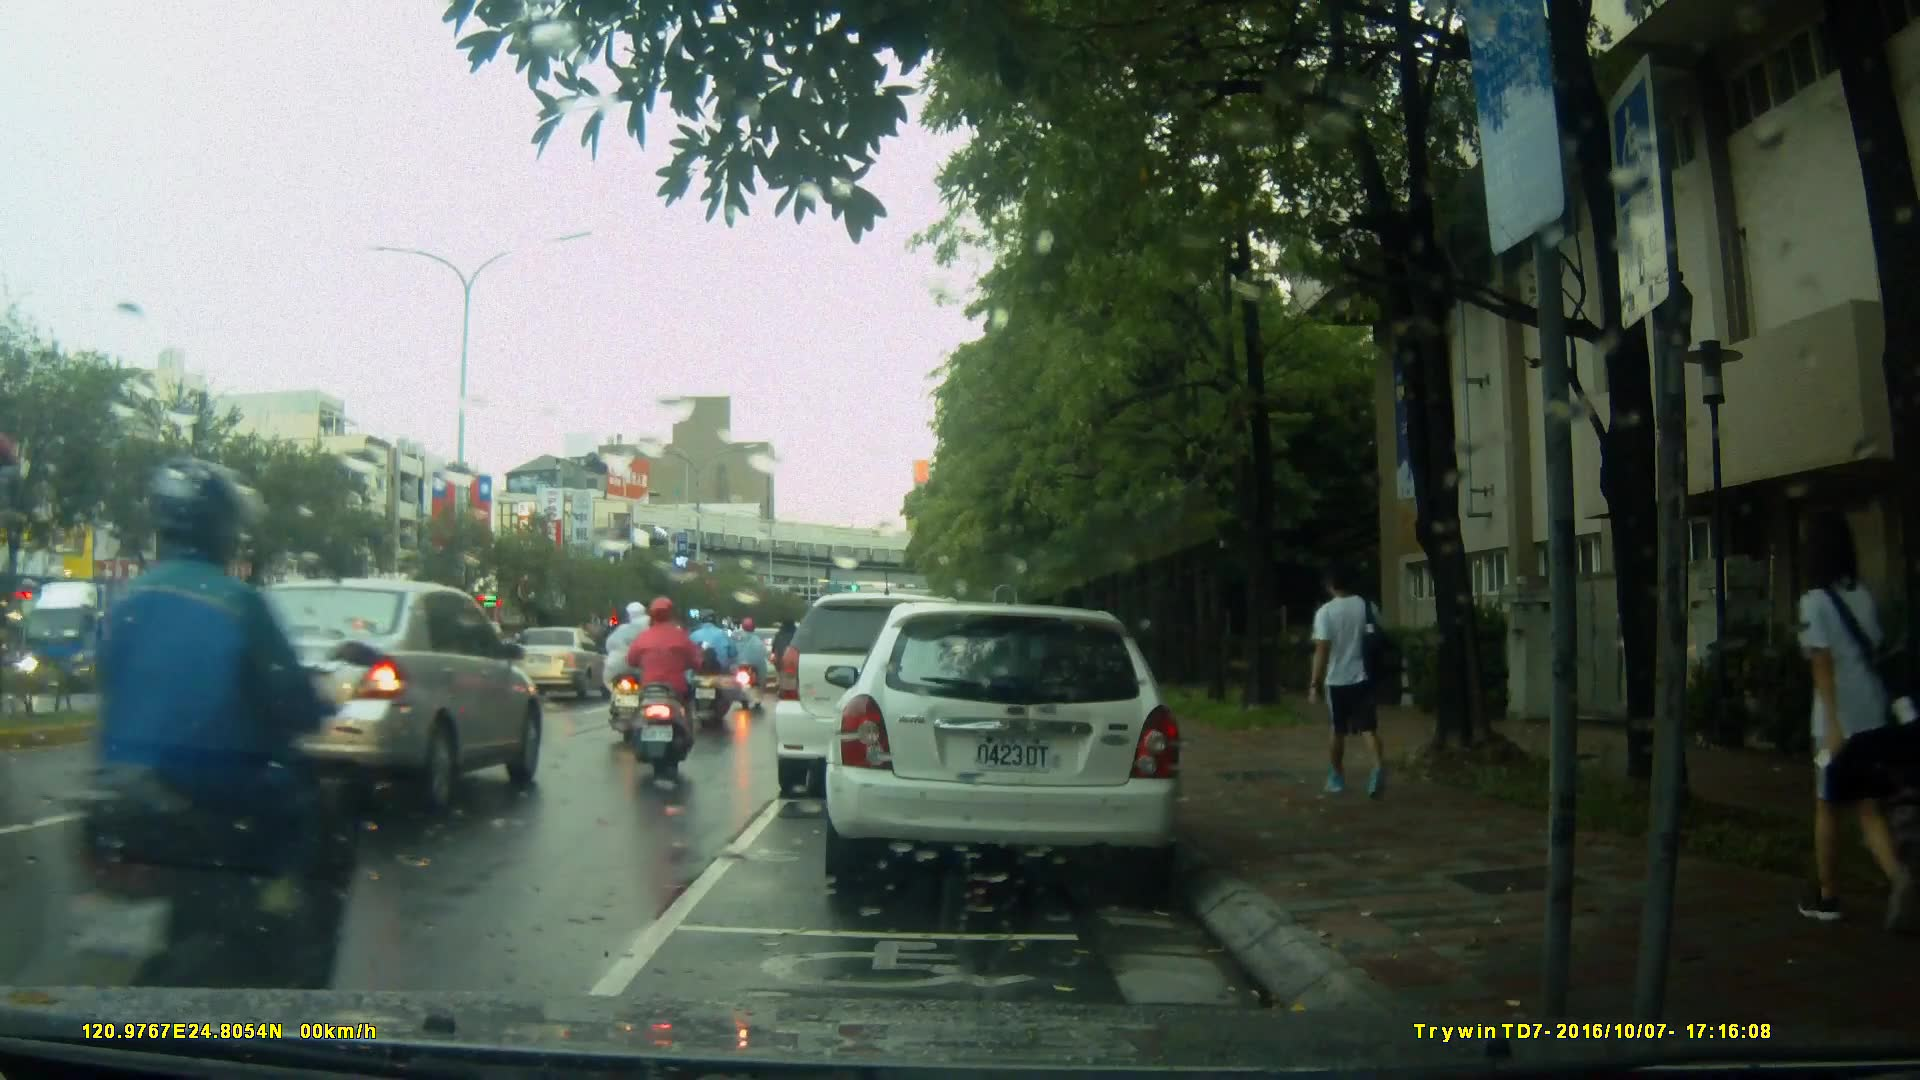pedestrian: (1780, 503, 1898, 938), (1307, 558, 1398, 809)
rider: (73, 454, 363, 1050), (617, 598, 698, 787), (611, 603, 662, 747), (685, 609, 743, 730), (775, 610, 809, 721), (734, 614, 772, 713)
vehicle: (822, 604, 1188, 882), (183, 576, 545, 816), (774, 595, 995, 802), (20, 576, 161, 697), (500, 624, 615, 705)
